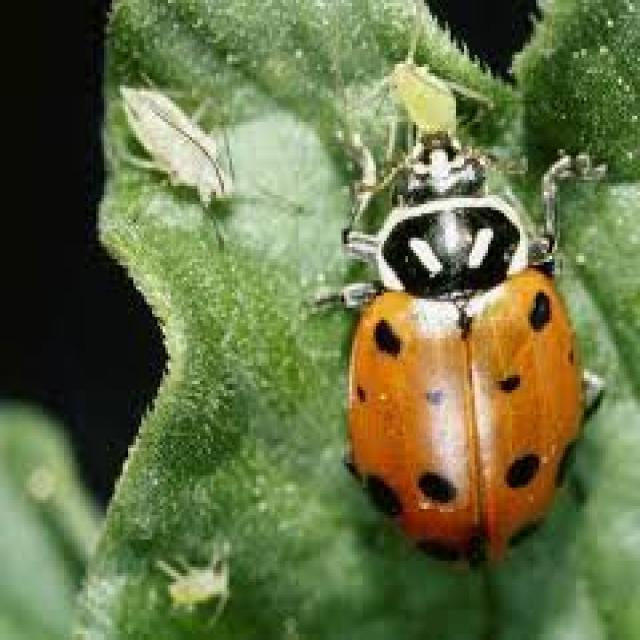ladybug: (339, 140, 603, 555)
